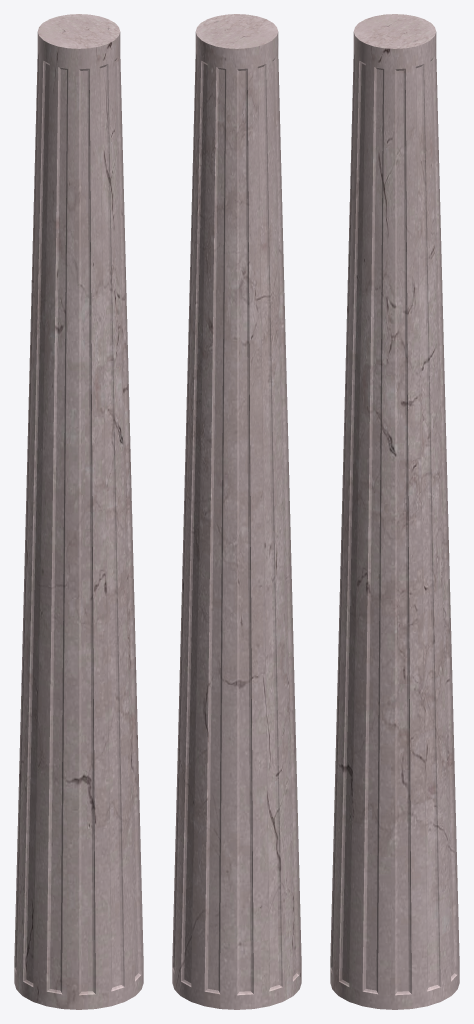
File: pasted__marble_tiles_pink_148.fbx
The picture shows the model from 3 angles, left to right: view 1: azimuth 30°, elevation 25°; view 2: azimuth 150°, elevation 25°; view 3: azimuth 330°, elevation 25°; orthographic projection.
Visible parts, largest first — view 1: pasted__marble_tiles_pink_148; view 2: pasted__marble_tiles_pink_148; view 3: pasted__marble_tiles_pink_148.
Part boxes in pixels (x1,y1,x2,y2): pasted__marble_tiles_pink_148: [14, 14, 143, 1009]; pasted__marble_tiles_pink_148: [172, 14, 301, 1009]; pasted__marble_tiles_pink_148: [330, 14, 459, 1009].
Bounding box in the file's own units: 15.64 × 15.64 × 127.
